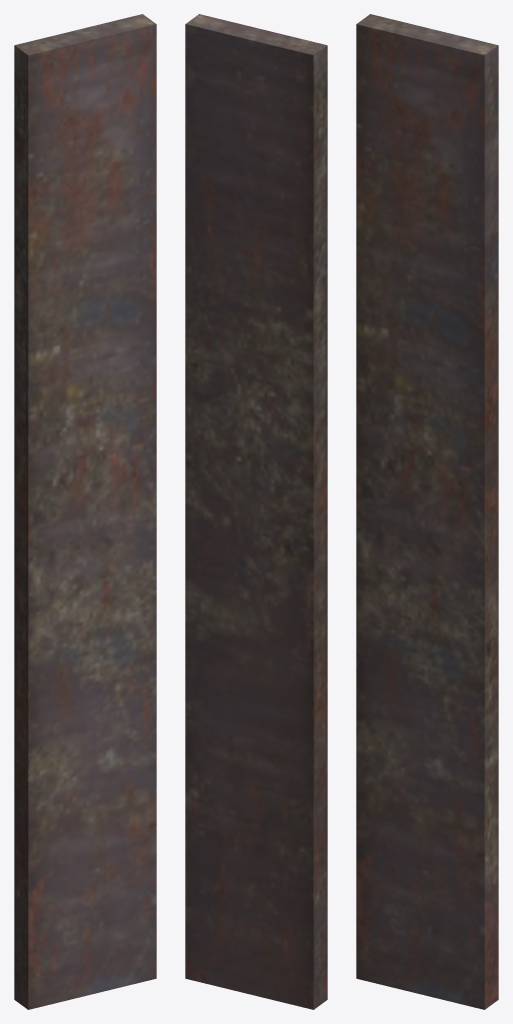
Rendered from V_Pillar_03.FBX.
3 renders of one model, left to right at view 1: azimuth 30°, elevation 25°; view 2: azimuth 150°, elevation 25°; view 3: azimuth 330°, elevation 25°, orthographic.
Visible parts, largest first — view 1: V_Pillar_03; view 2: V_Pillar_03; view 3: V_Pillar_03.
Part boxes in pixels (x1,y1,x2,y2): V_Pillar_03: (14,14,156,1009); V_Pillar_03: (185,14,327,1009); V_Pillar_03: (356,14,498,1009).
Bounding box in the file's own units: 80.29 × 571 × 15.
